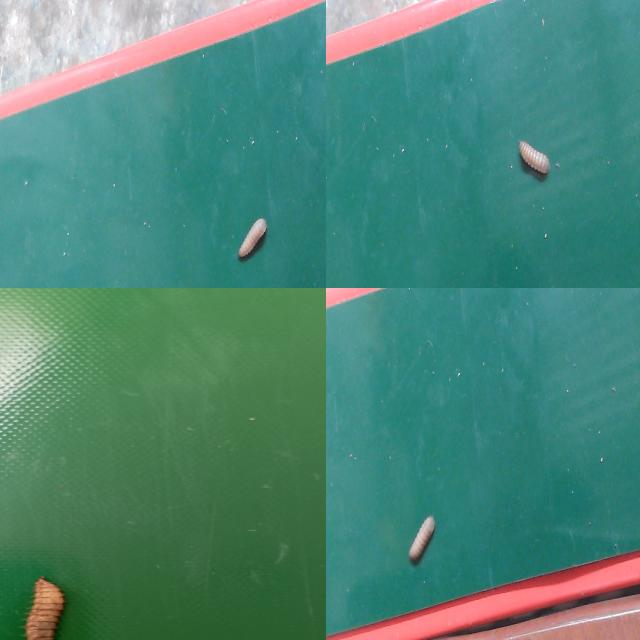Maggot: (24, 579, 67, 640), (407, 516, 436, 567), (516, 140, 551, 181), (237, 218, 267, 263)
